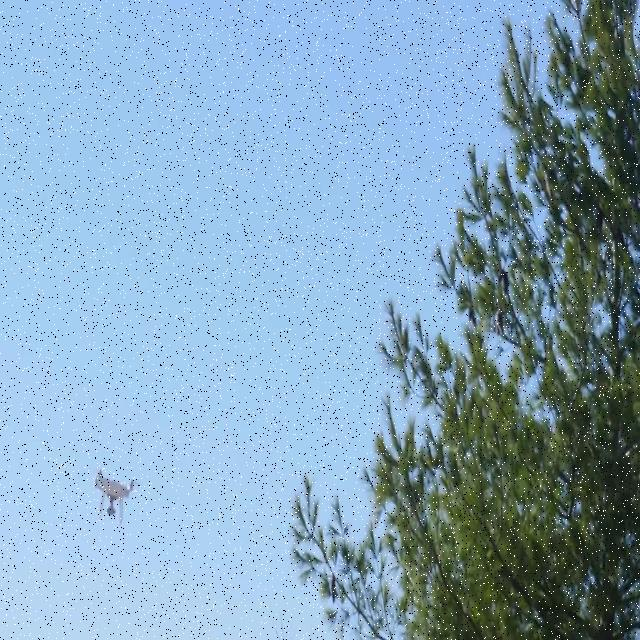UAV: (92, 468, 136, 527)
